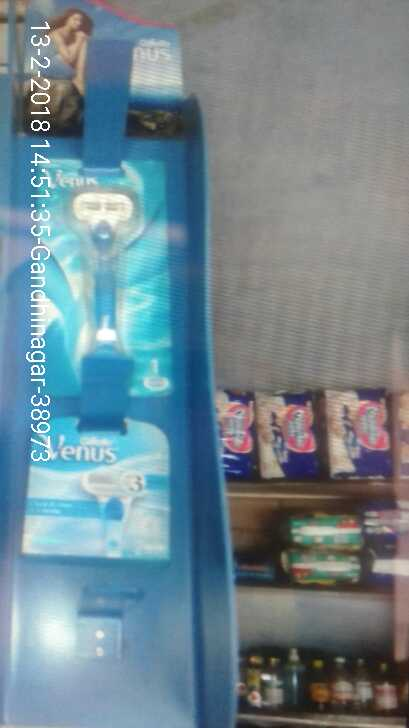venus: (54, 157, 185, 403), (51, 414, 187, 568)
